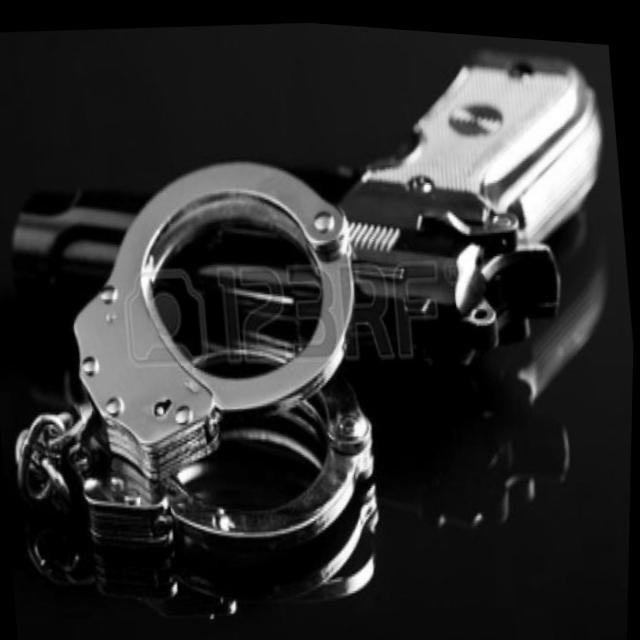weapon: (0, 0, 626, 394)
